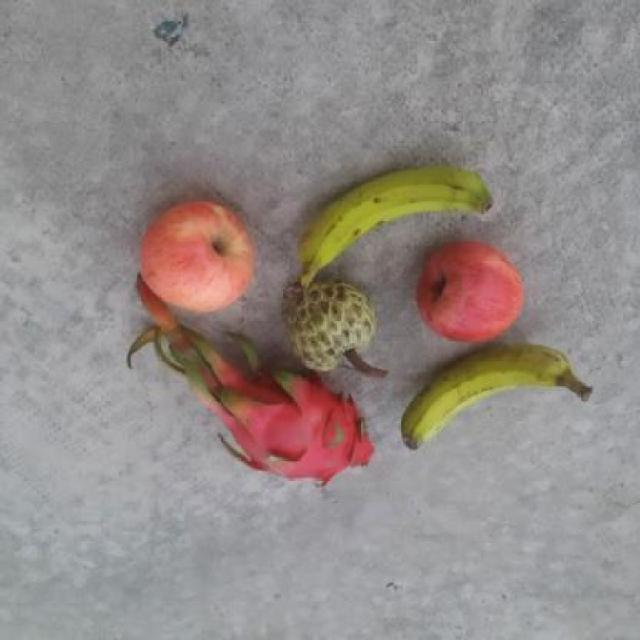apple: (137, 192, 255, 314), (414, 240, 528, 346)
banana: (400, 342, 592, 455), (298, 169, 498, 273)
dragon fruit: (232, 376, 372, 486)
sugar apple: (283, 280, 377, 372)
